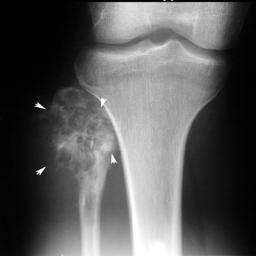cancer: (45, 89, 120, 226)
